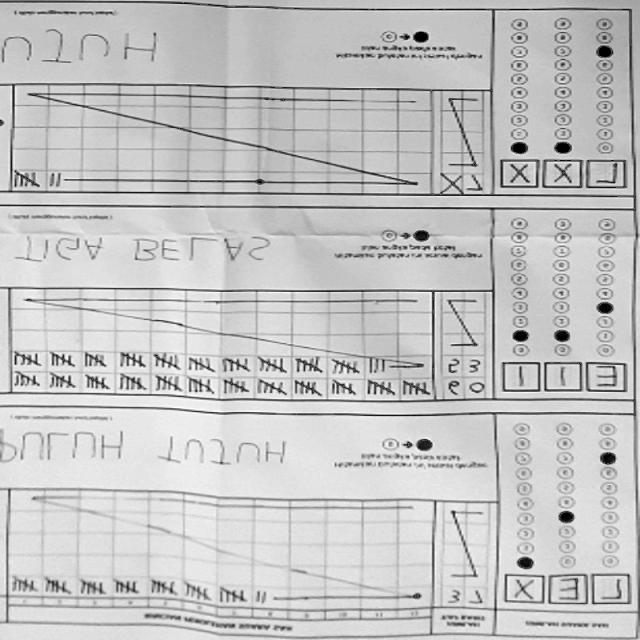Suara: (495, 360, 634, 400), (498, 570, 636, 610), (493, 154, 631, 194)
